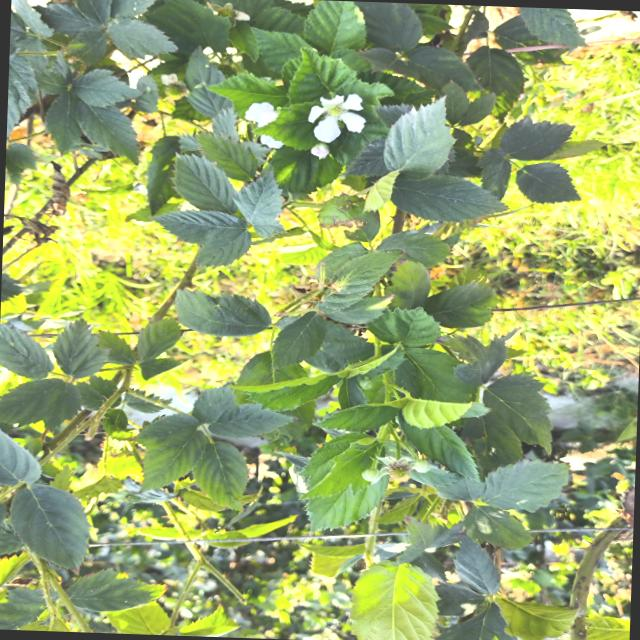boton: (361, 467, 383, 483), (412, 457, 431, 473), (310, 143, 329, 158)
flor: (307, 93, 366, 143), (245, 102, 277, 127), (260, 134, 283, 148)
